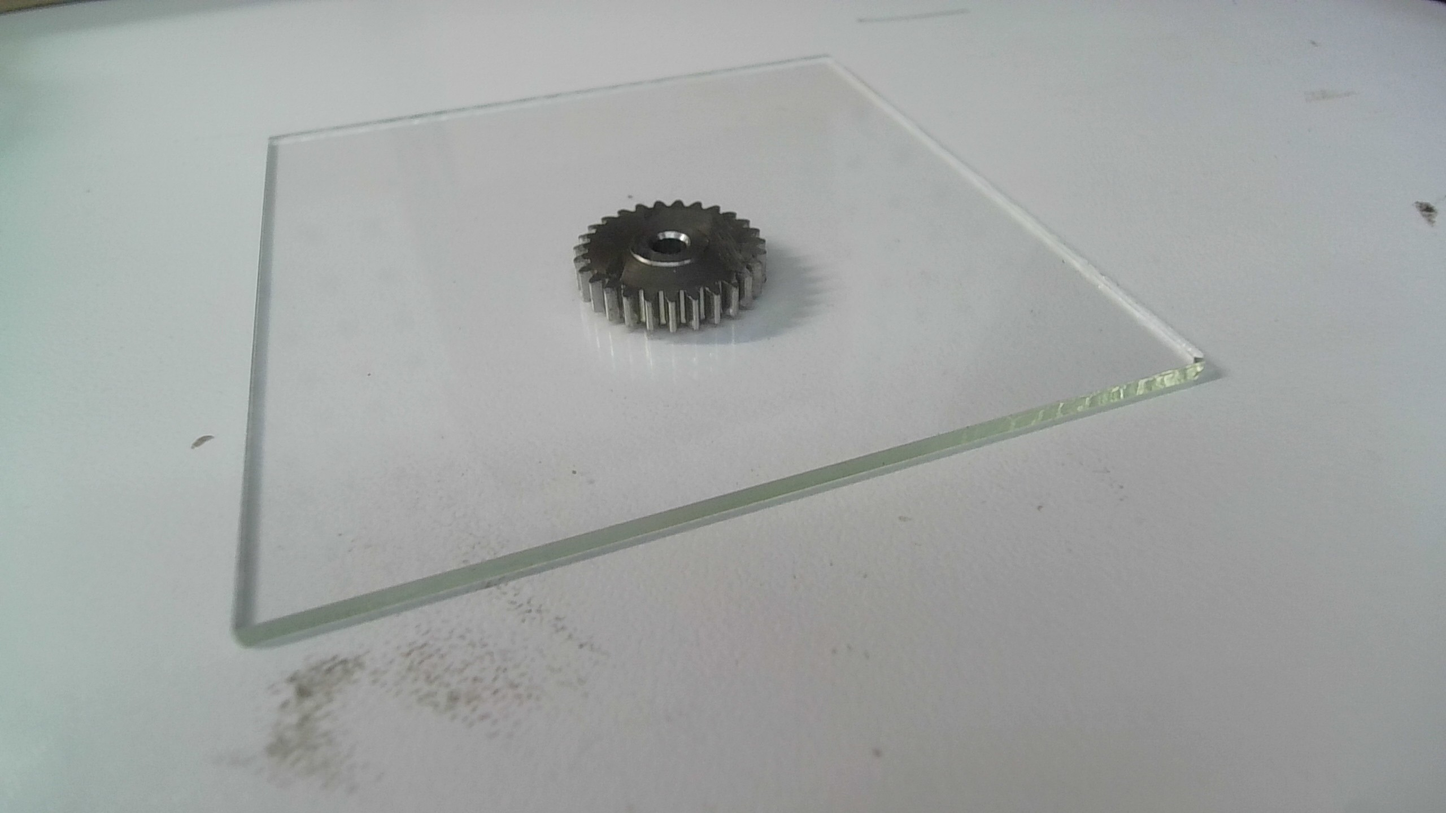gear: (570, 197, 775, 343)
